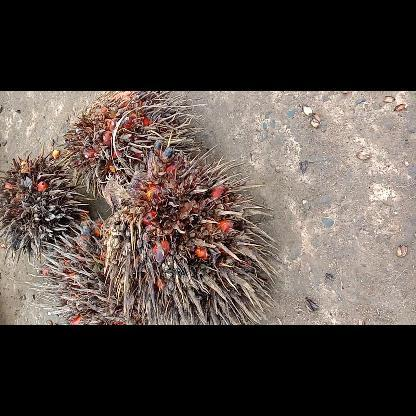Terlalu masak: (94, 137, 284, 322), (53, 91, 209, 205), (34, 212, 154, 324), (0, 152, 92, 266)
